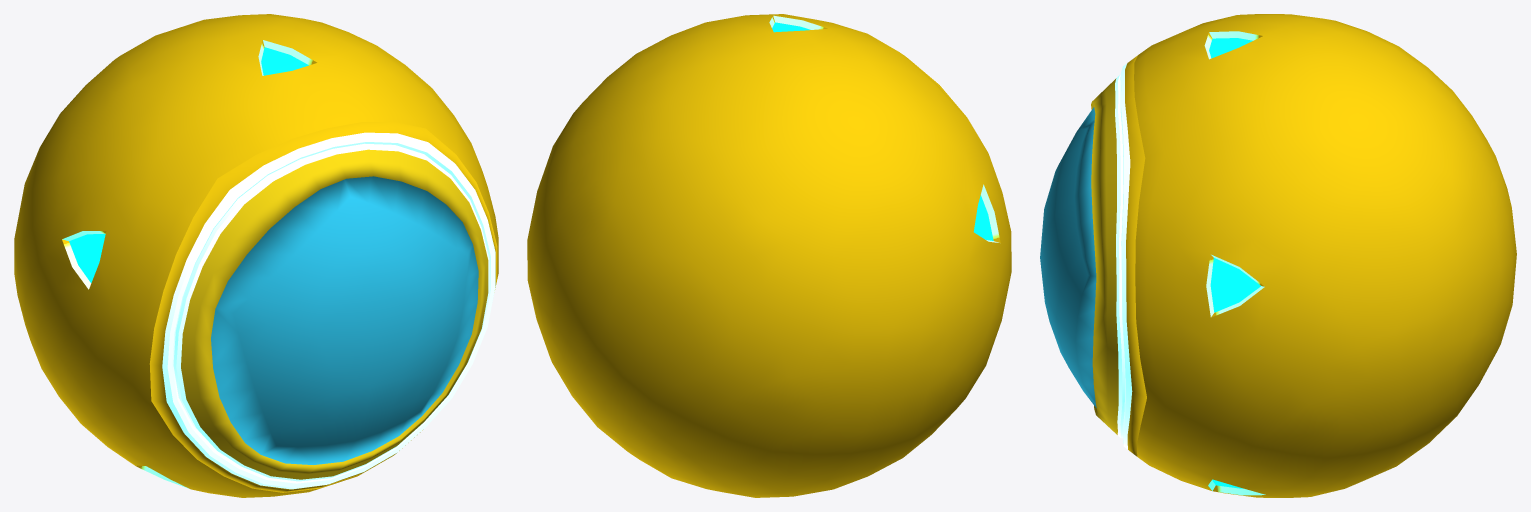
File: Yellow_Incubator_01.3946ada1.gltf
3 renders of one model, left to right at view 1: azimuth 30°, elevation 25°; view 2: azimuth 150°, elevation 25°; view 3: azimuth 270°, elevation 25°, orthographic.
Visible parts, largest first — view 1: pPlatonic6.007; view 2: pPlatonic6.007; view 3: pPlatonic6.007.
Part boxes in pixels (<box>): pPlatonic6.007: <box>14,14,498,497</box>; pPlatonic6.007: <box>527,14,1011,497</box>; pPlatonic6.007: <box>1040,14,1516,497</box>.
Size of the model in its own units: 5 by 5.01 by 4.91.
4 materials, 1 textured.
